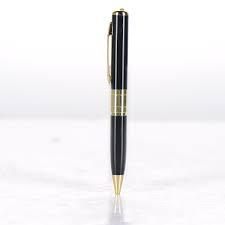qillqana: (104, 4, 130, 208)
